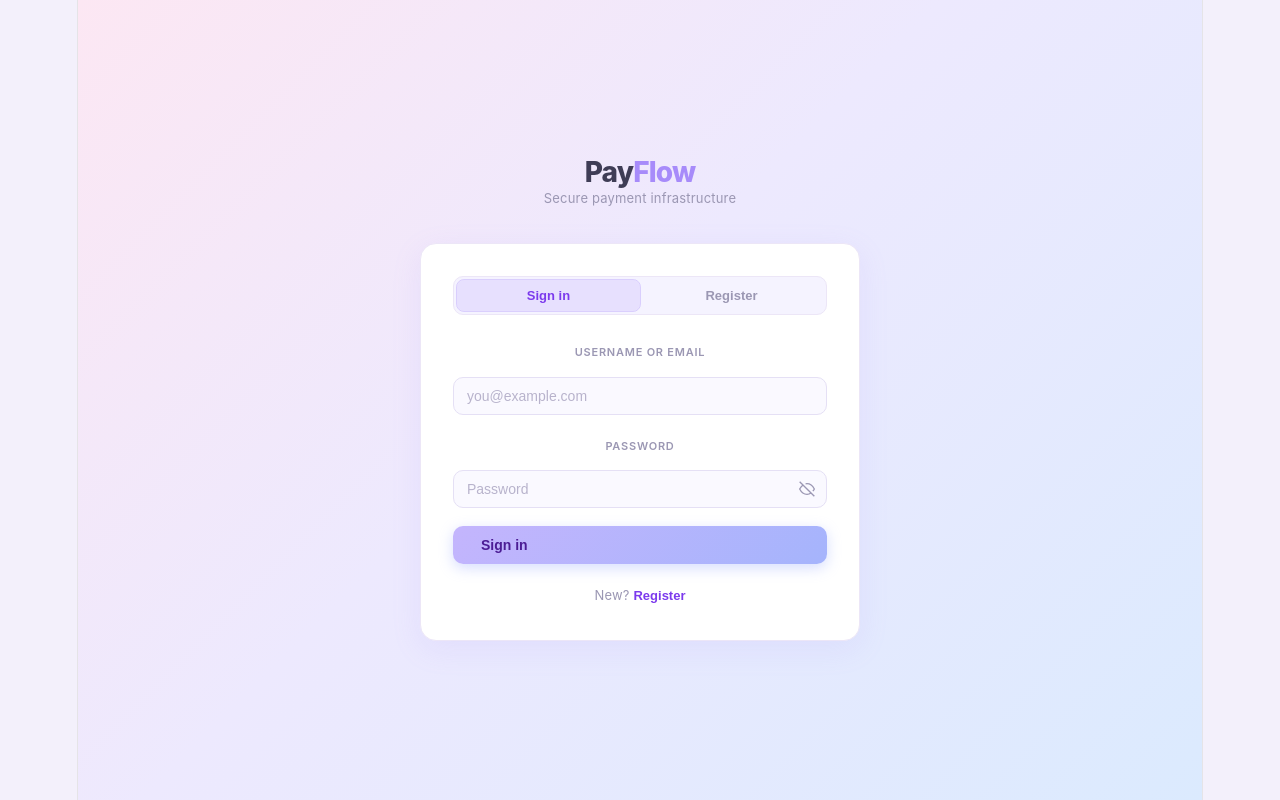
Scenario: App — session bootstrap & auth routing › shows a backend error message when login fails
Expected: the text "Secure payment infrastructure" is shown, [544, 190, 736, 206]
Type "jsmith42" into the field with placeholder "you@example.com" at (640, 396), box [453, 376, 827, 414]
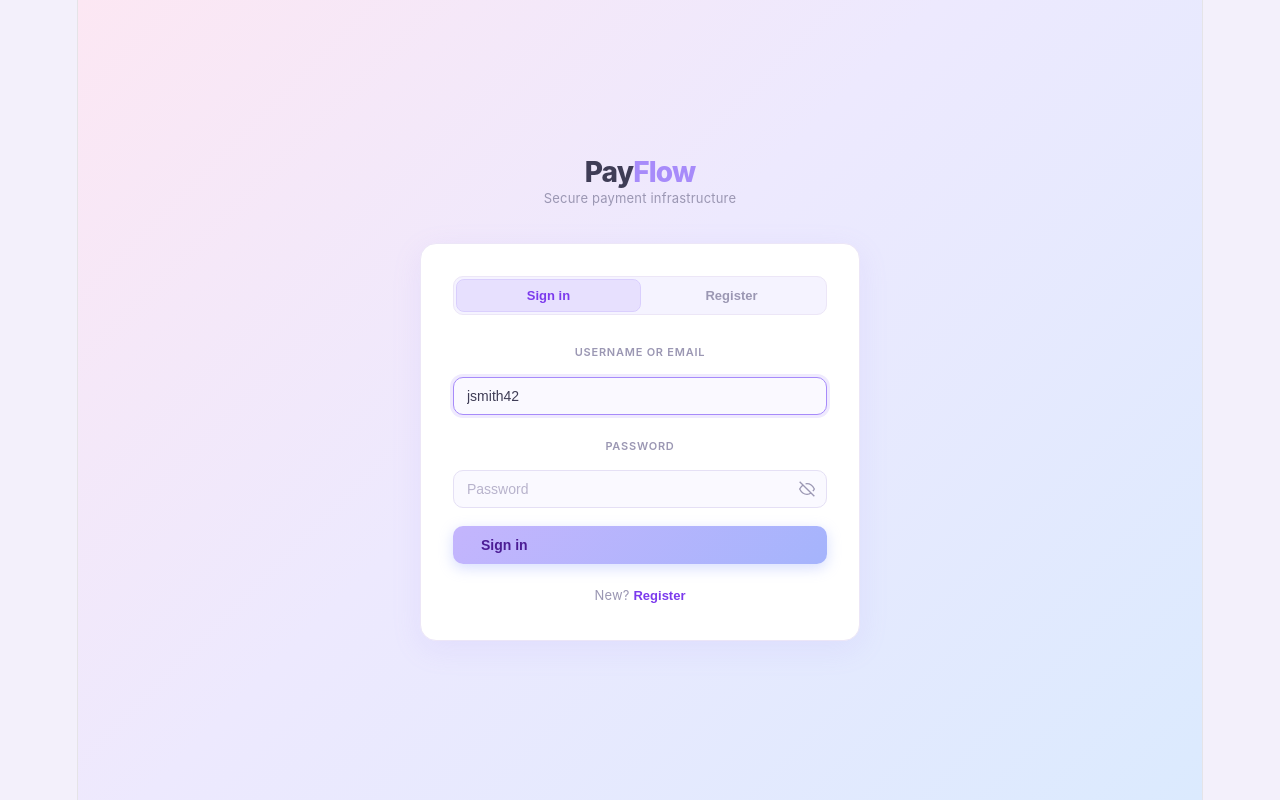
Type "wrongpass" into the password field with placeholder "Password" at (640, 489), box [453, 470, 827, 508]
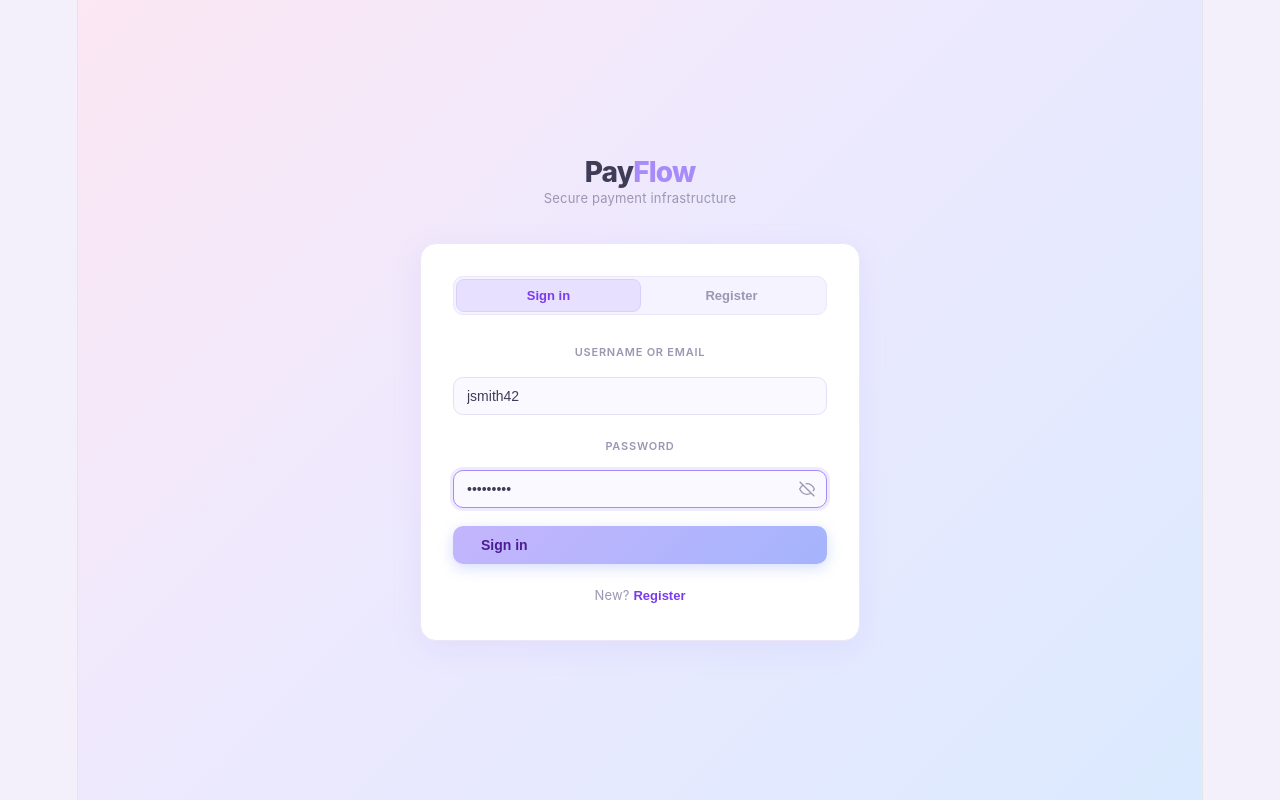
Click the button "Sign in" below "Password" at (504, 545), box [453, 526, 827, 564]
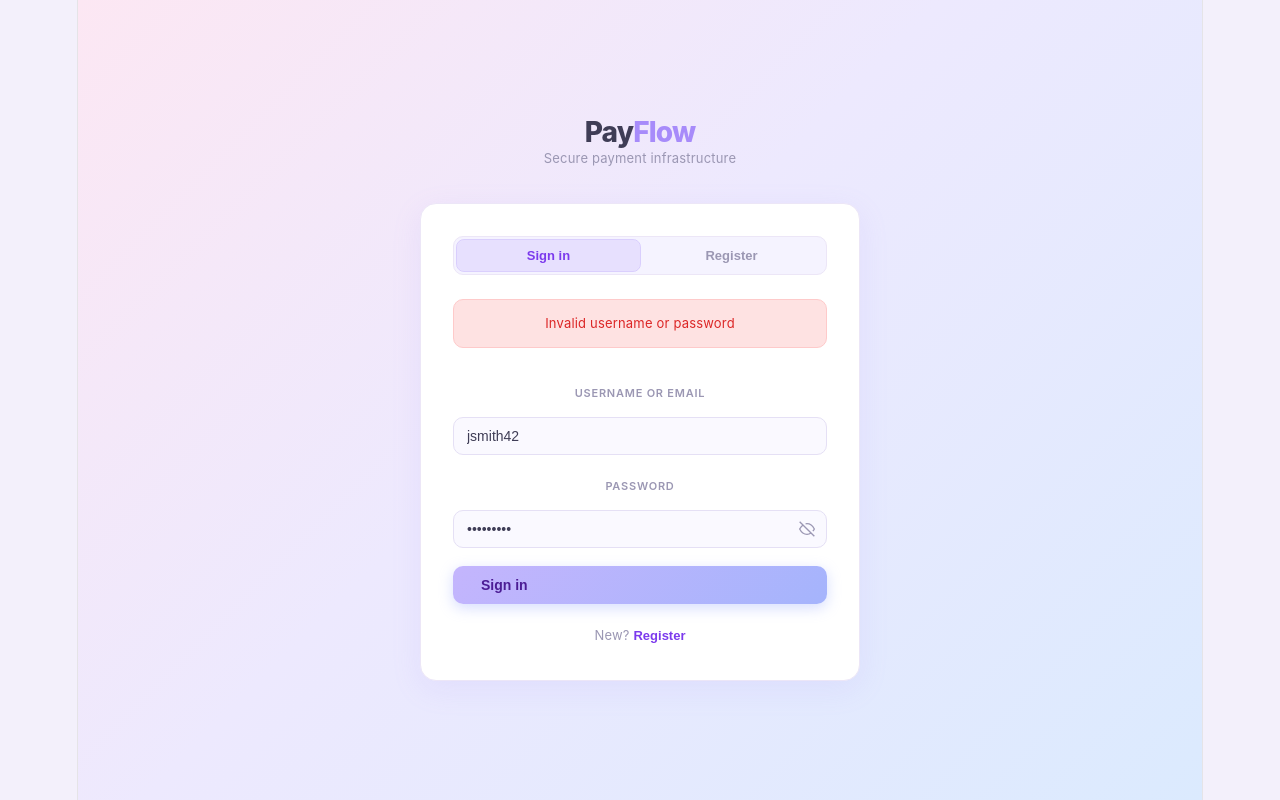
Expected: the text "Invalid username or password" is shown, [453, 299, 827, 348]
